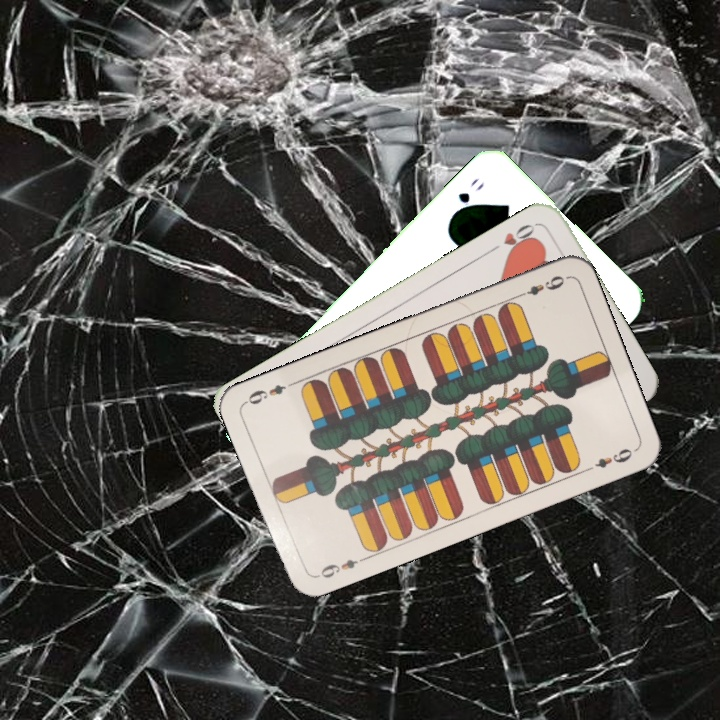E9: (512, 271, 567, 301), (311, 553, 368, 581)
GO: (448, 174, 487, 219)
HO: (486, 219, 540, 258)
